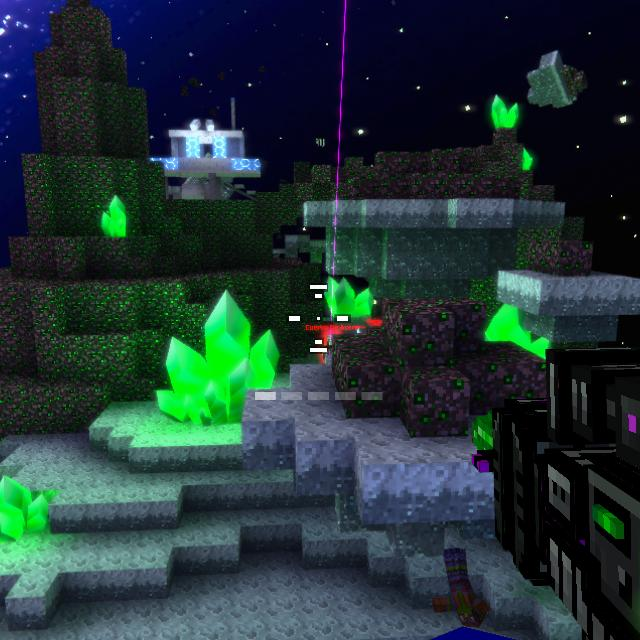Enemy: (323, 335, 340, 367)
